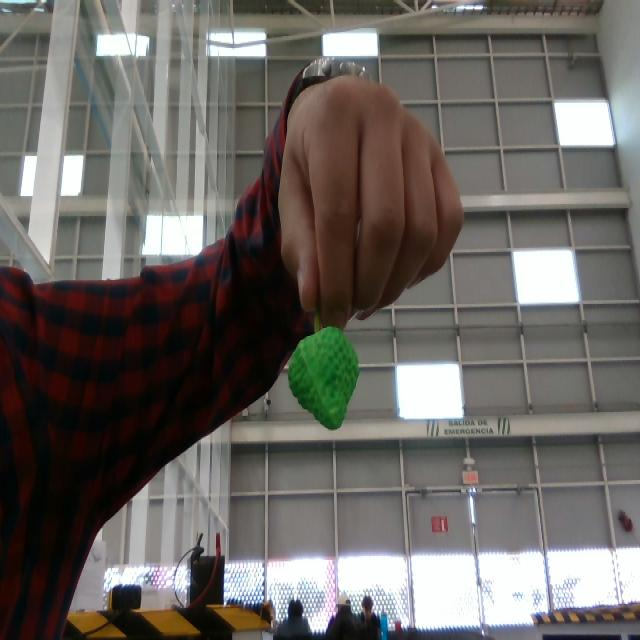verde: (286, 326, 364, 432)
